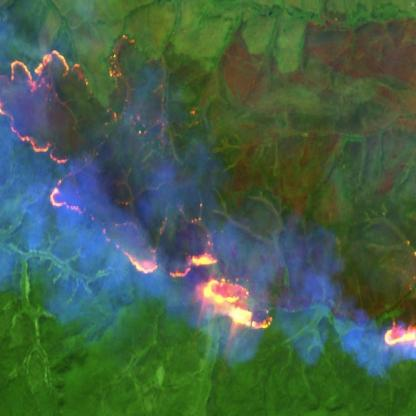fire: (0, 26, 416, 357)
